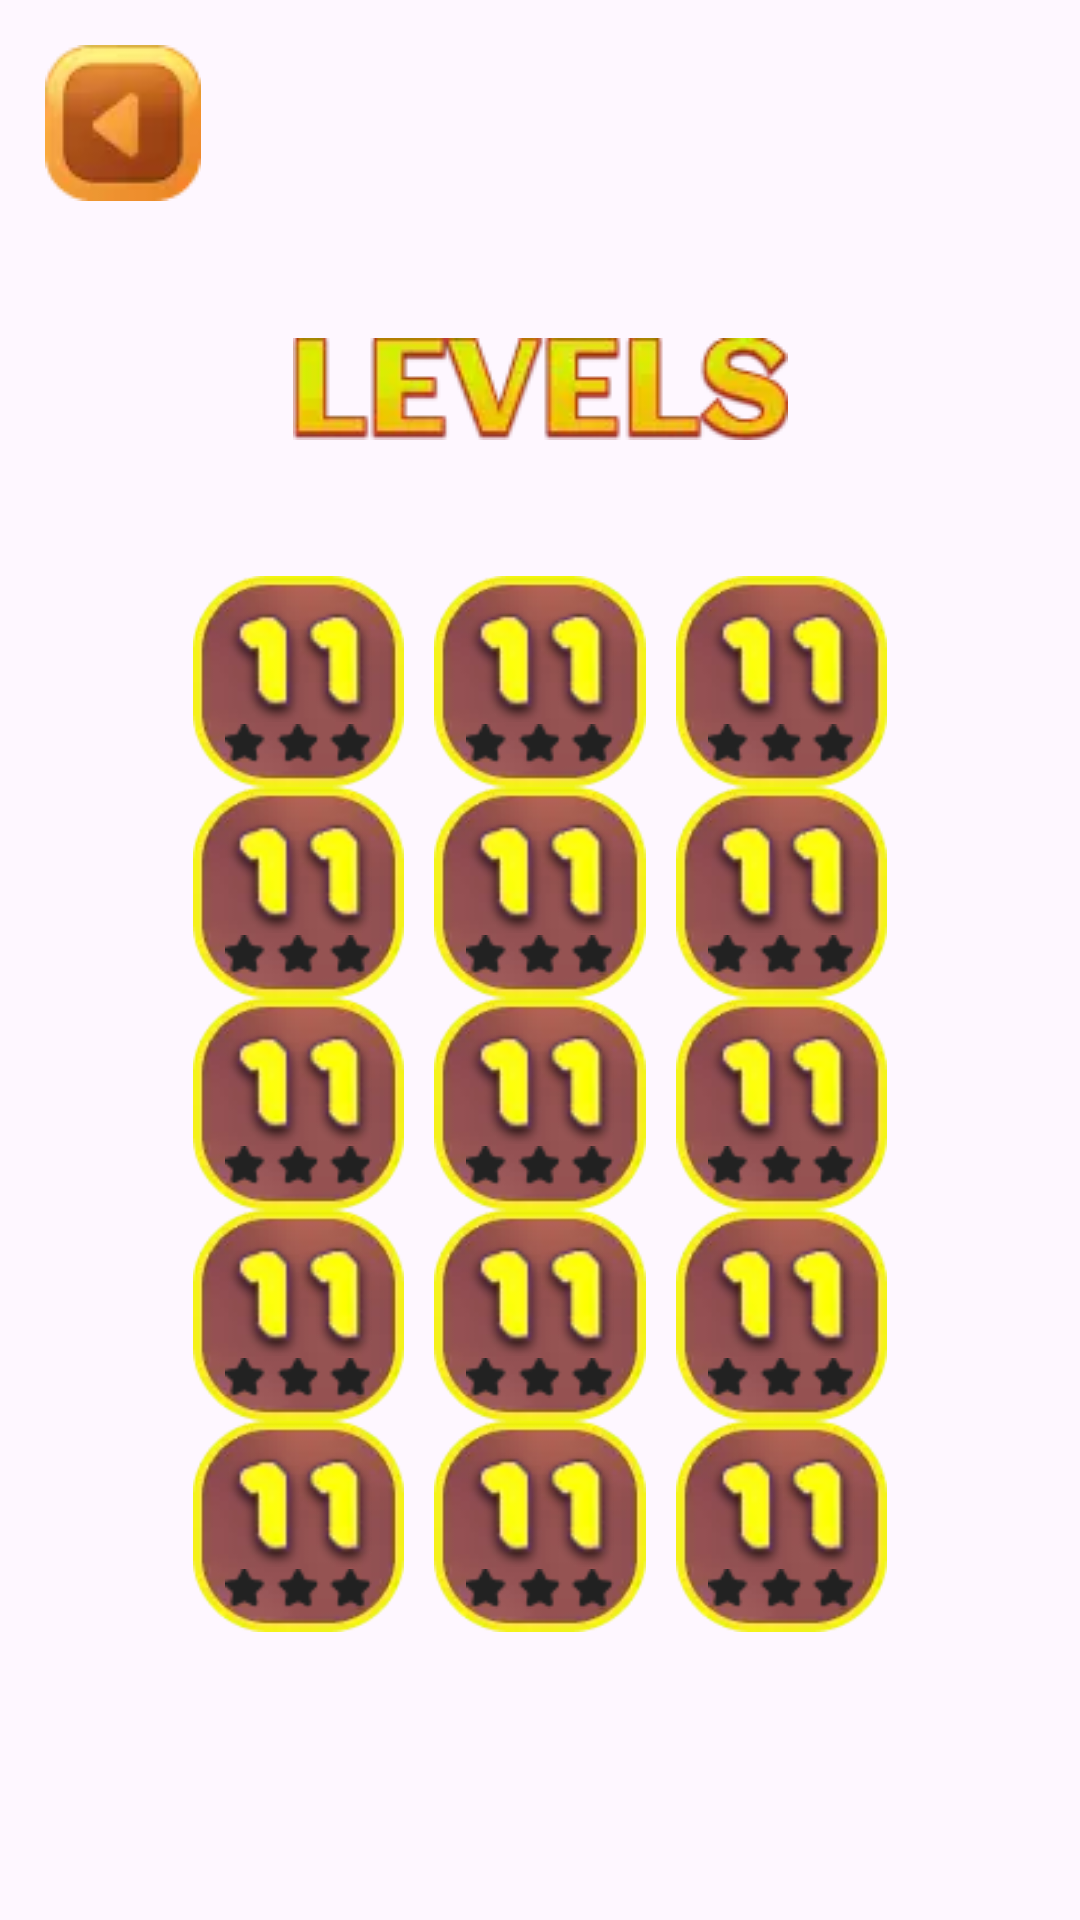

Icon click points for this 1080x1920 phone screenshot, format [x,y]:
back: [123,123]
